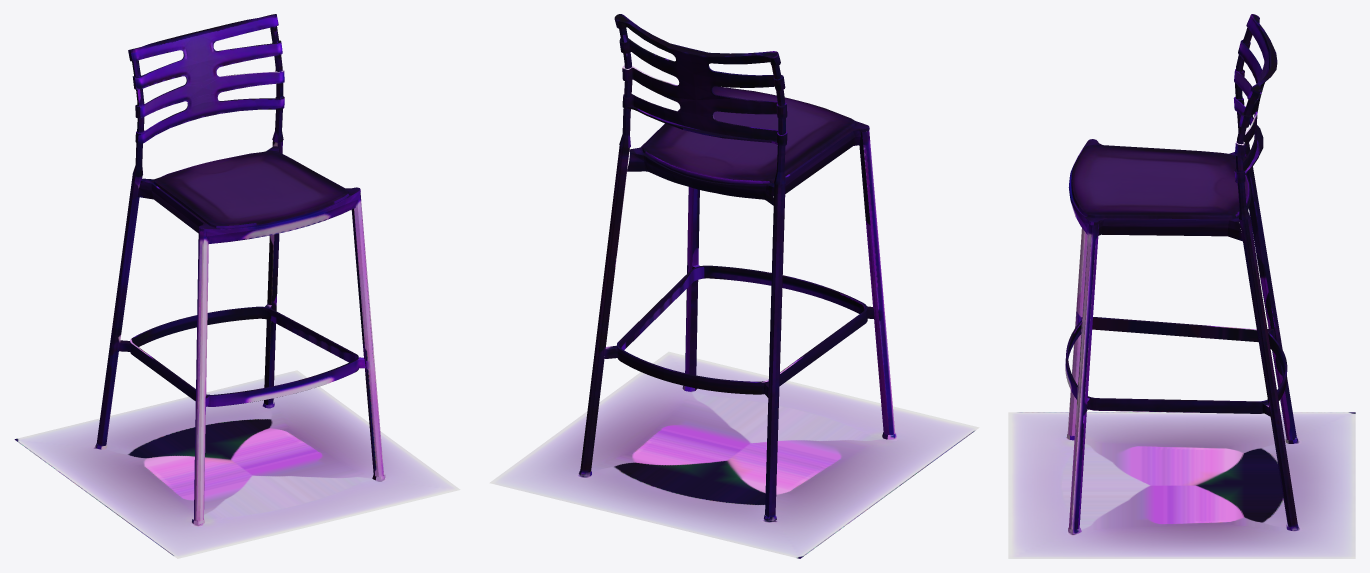
File: edited_mesh.glb
The picture shows the model from 3 angles, left to right: view 1: azimuth 30°, elevation 25°; view 2: azimuth 150°, elevation 25°; view 3: azimuth 270°, elevation 25°; orthographic projection. The views are drawn at different scales.
Visible parts, largest first — view 1: normalized_model.obj; view 2: normalized_model.obj; view 3: normalized_model.obj.
Boxes of the visible parts, bbox=[...] form: normalized_model.obj: bbox=[14, 14, 460, 558]; normalized_model.obj: bbox=[489, 14, 979, 558]; normalized_model.obj: bbox=[1008, 14, 1355, 558].
Size of the model in its own units: 1.45 by 2 by 1.45.
Materials: 1 (1 with a texture image).
